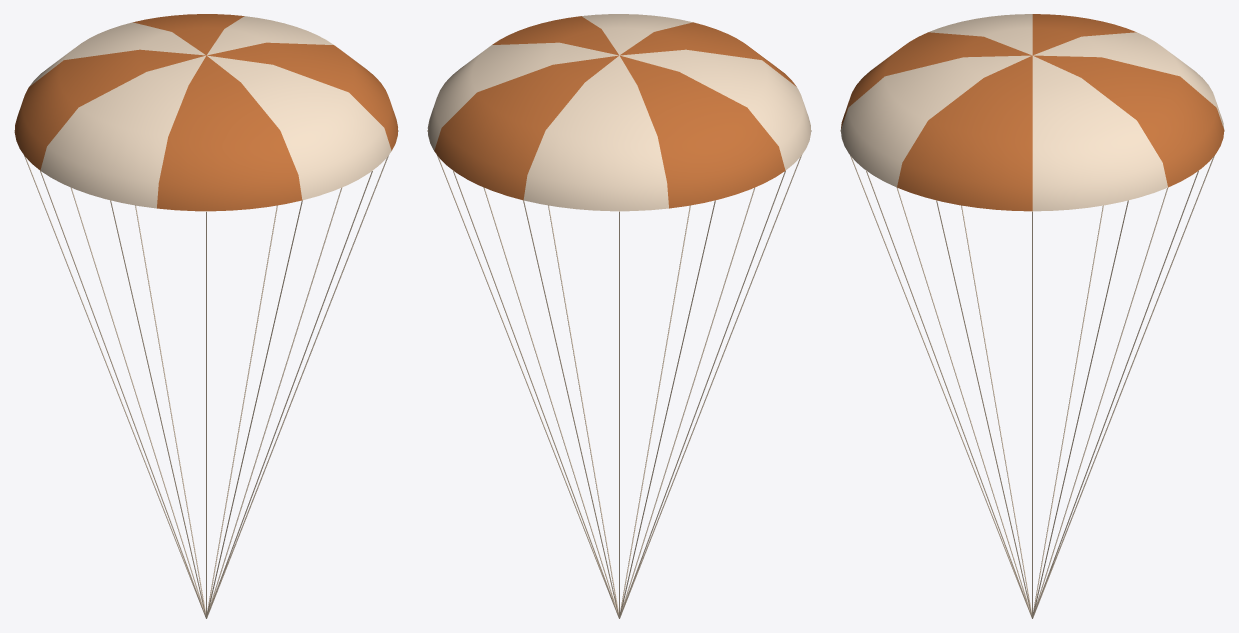
Rendered from mars_parachute.glb.
The picture shows the model from 3 angles, left to right: view 1: azimuth 30°, elevation 25°; view 2: azimuth 150°, elevation 25°; view 3: azimuth 270°, elevation 25°; orthographic projection.
Visible parts, largest first — view 1: mars_parachute.main_01.mesh_Parachute_canopy_fabric, mars_parachute.main_01.mesh_Spray-on_insulation, mars_parachute.mesh_Parachute_canopy_fabric; view 2: mars_parachute.main_01.mesh_Spray-on_insulation, mars_parachute.main_01.mesh_Parachute_canopy_fabric, mars_parachute.mesh_Parachute_canopy_fabric; view 3: mars_parachute.main_01.mesh_Parachute_canopy_fabric, mars_parachute.main_01.mesh_Spray-on_insulation, mars_parachute.mesh_Parachute_canopy_fabric.
Boxes of the visible parts, x1=… form: mars_parachute.main_01.mesh_Parachute_canopy_fabric: x1=29, y1=16, x2=391, y2=208; mars_parachute.main_01.mesh_Spray-on_insulation: x1=14, y1=14, x2=397, y2=211; mars_parachute.mesh_Parachute_canopy_fabric: x1=14, y1=130, x2=398, y2=618; mars_parachute.main_01.mesh_Spray-on_insulation: x1=434, y1=16, x2=796, y2=208; mars_parachute.main_01.mesh_Parachute_canopy_fabric: x1=427, y1=14, x2=810, y2=211; mars_parachute.mesh_Parachute_canopy_fabric: x1=427, y1=130, x2=811, y2=618; mars_parachute.main_01.mesh_Parachute_canopy_fabric: x1=840, y1=14, x2=1224, y2=211; mars_parachute.main_01.mesh_Spray-on_insulation: x1=841, y1=14, x2=1224, y2=211; mars_parachute.mesh_Parachute_canopy_fabric: x1=840, y1=130, x2=1224, y2=618.
Bounding box in the file's own units: 21.56 × 34.83 × 21.55.
